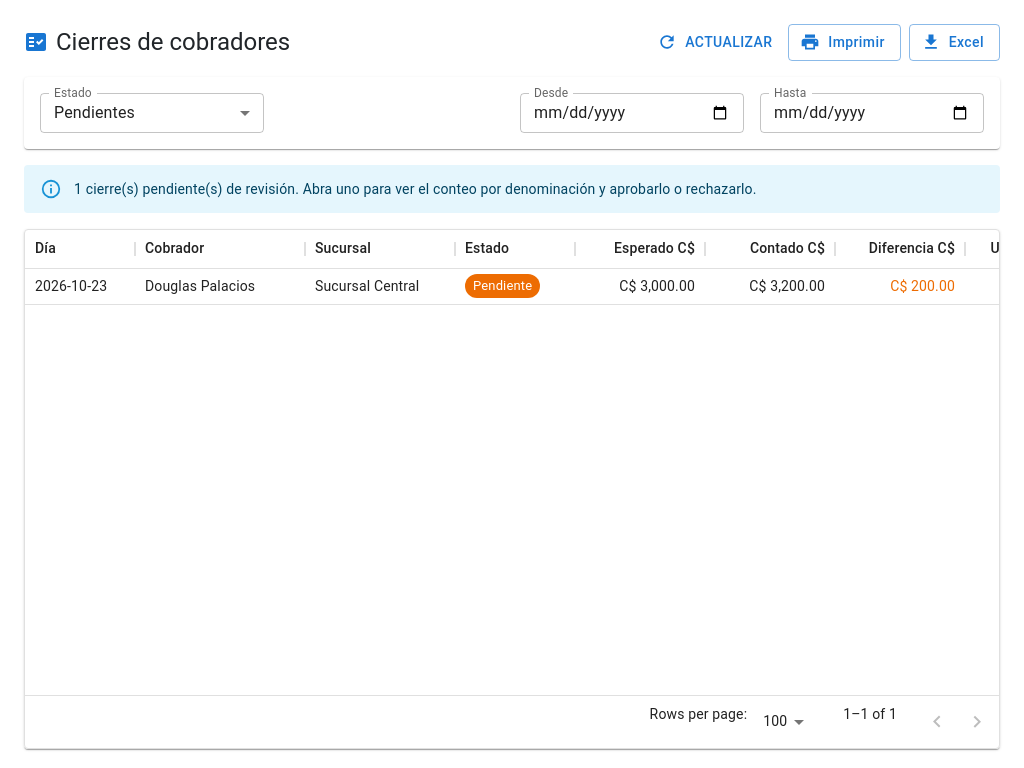
Test case: CollectorDayCloses: revisión web de cierres de cobradores › sin permiso de arqueos no se ofrecen aprobar ni rechazar
Click the text "Douglas Palacios". click: (200, 286)
box: [145,276,255,296]
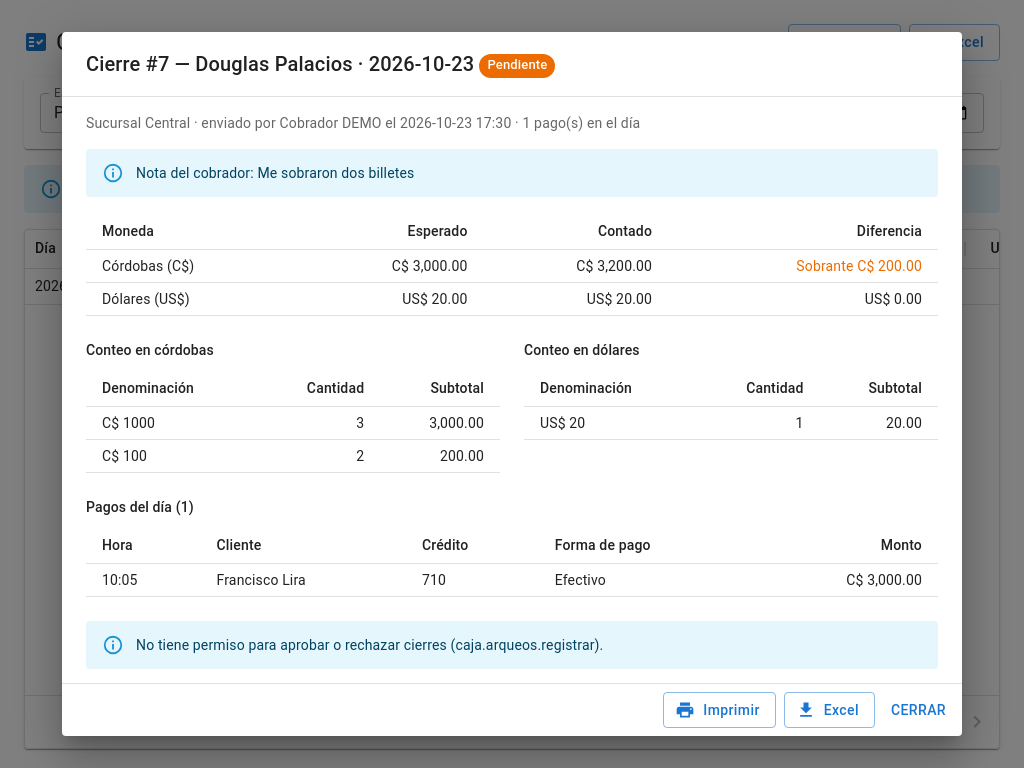
Result: the text "Francisco Lira" is shown at [200,564,406,596]
